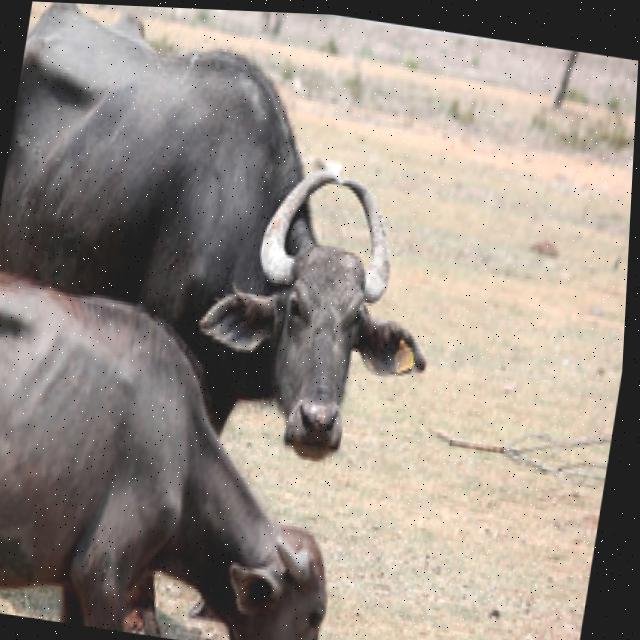Buffalo: (0, 0, 477, 477)
